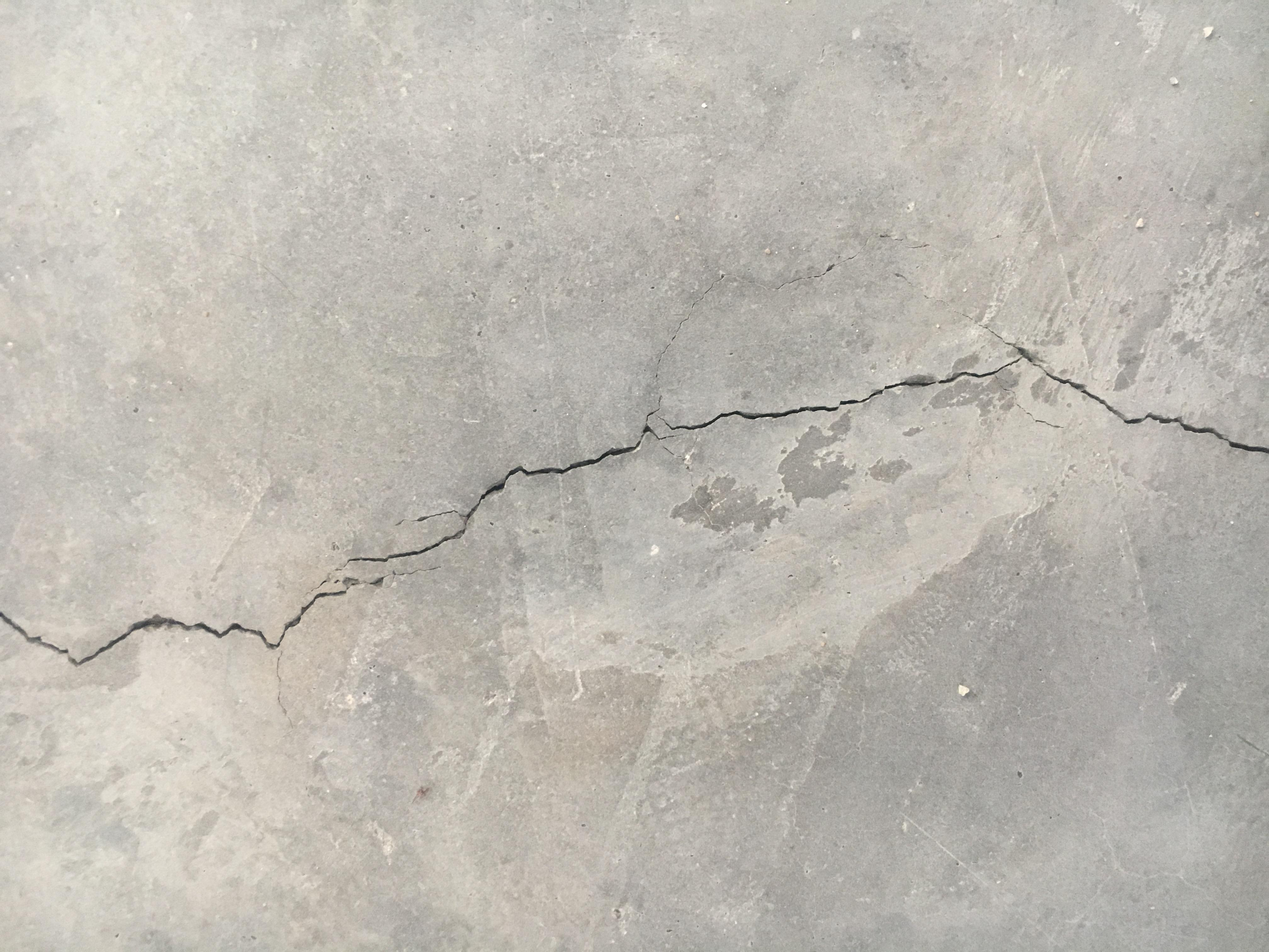Horizontal Settlement Crack: (3, 315, 1265, 684)
